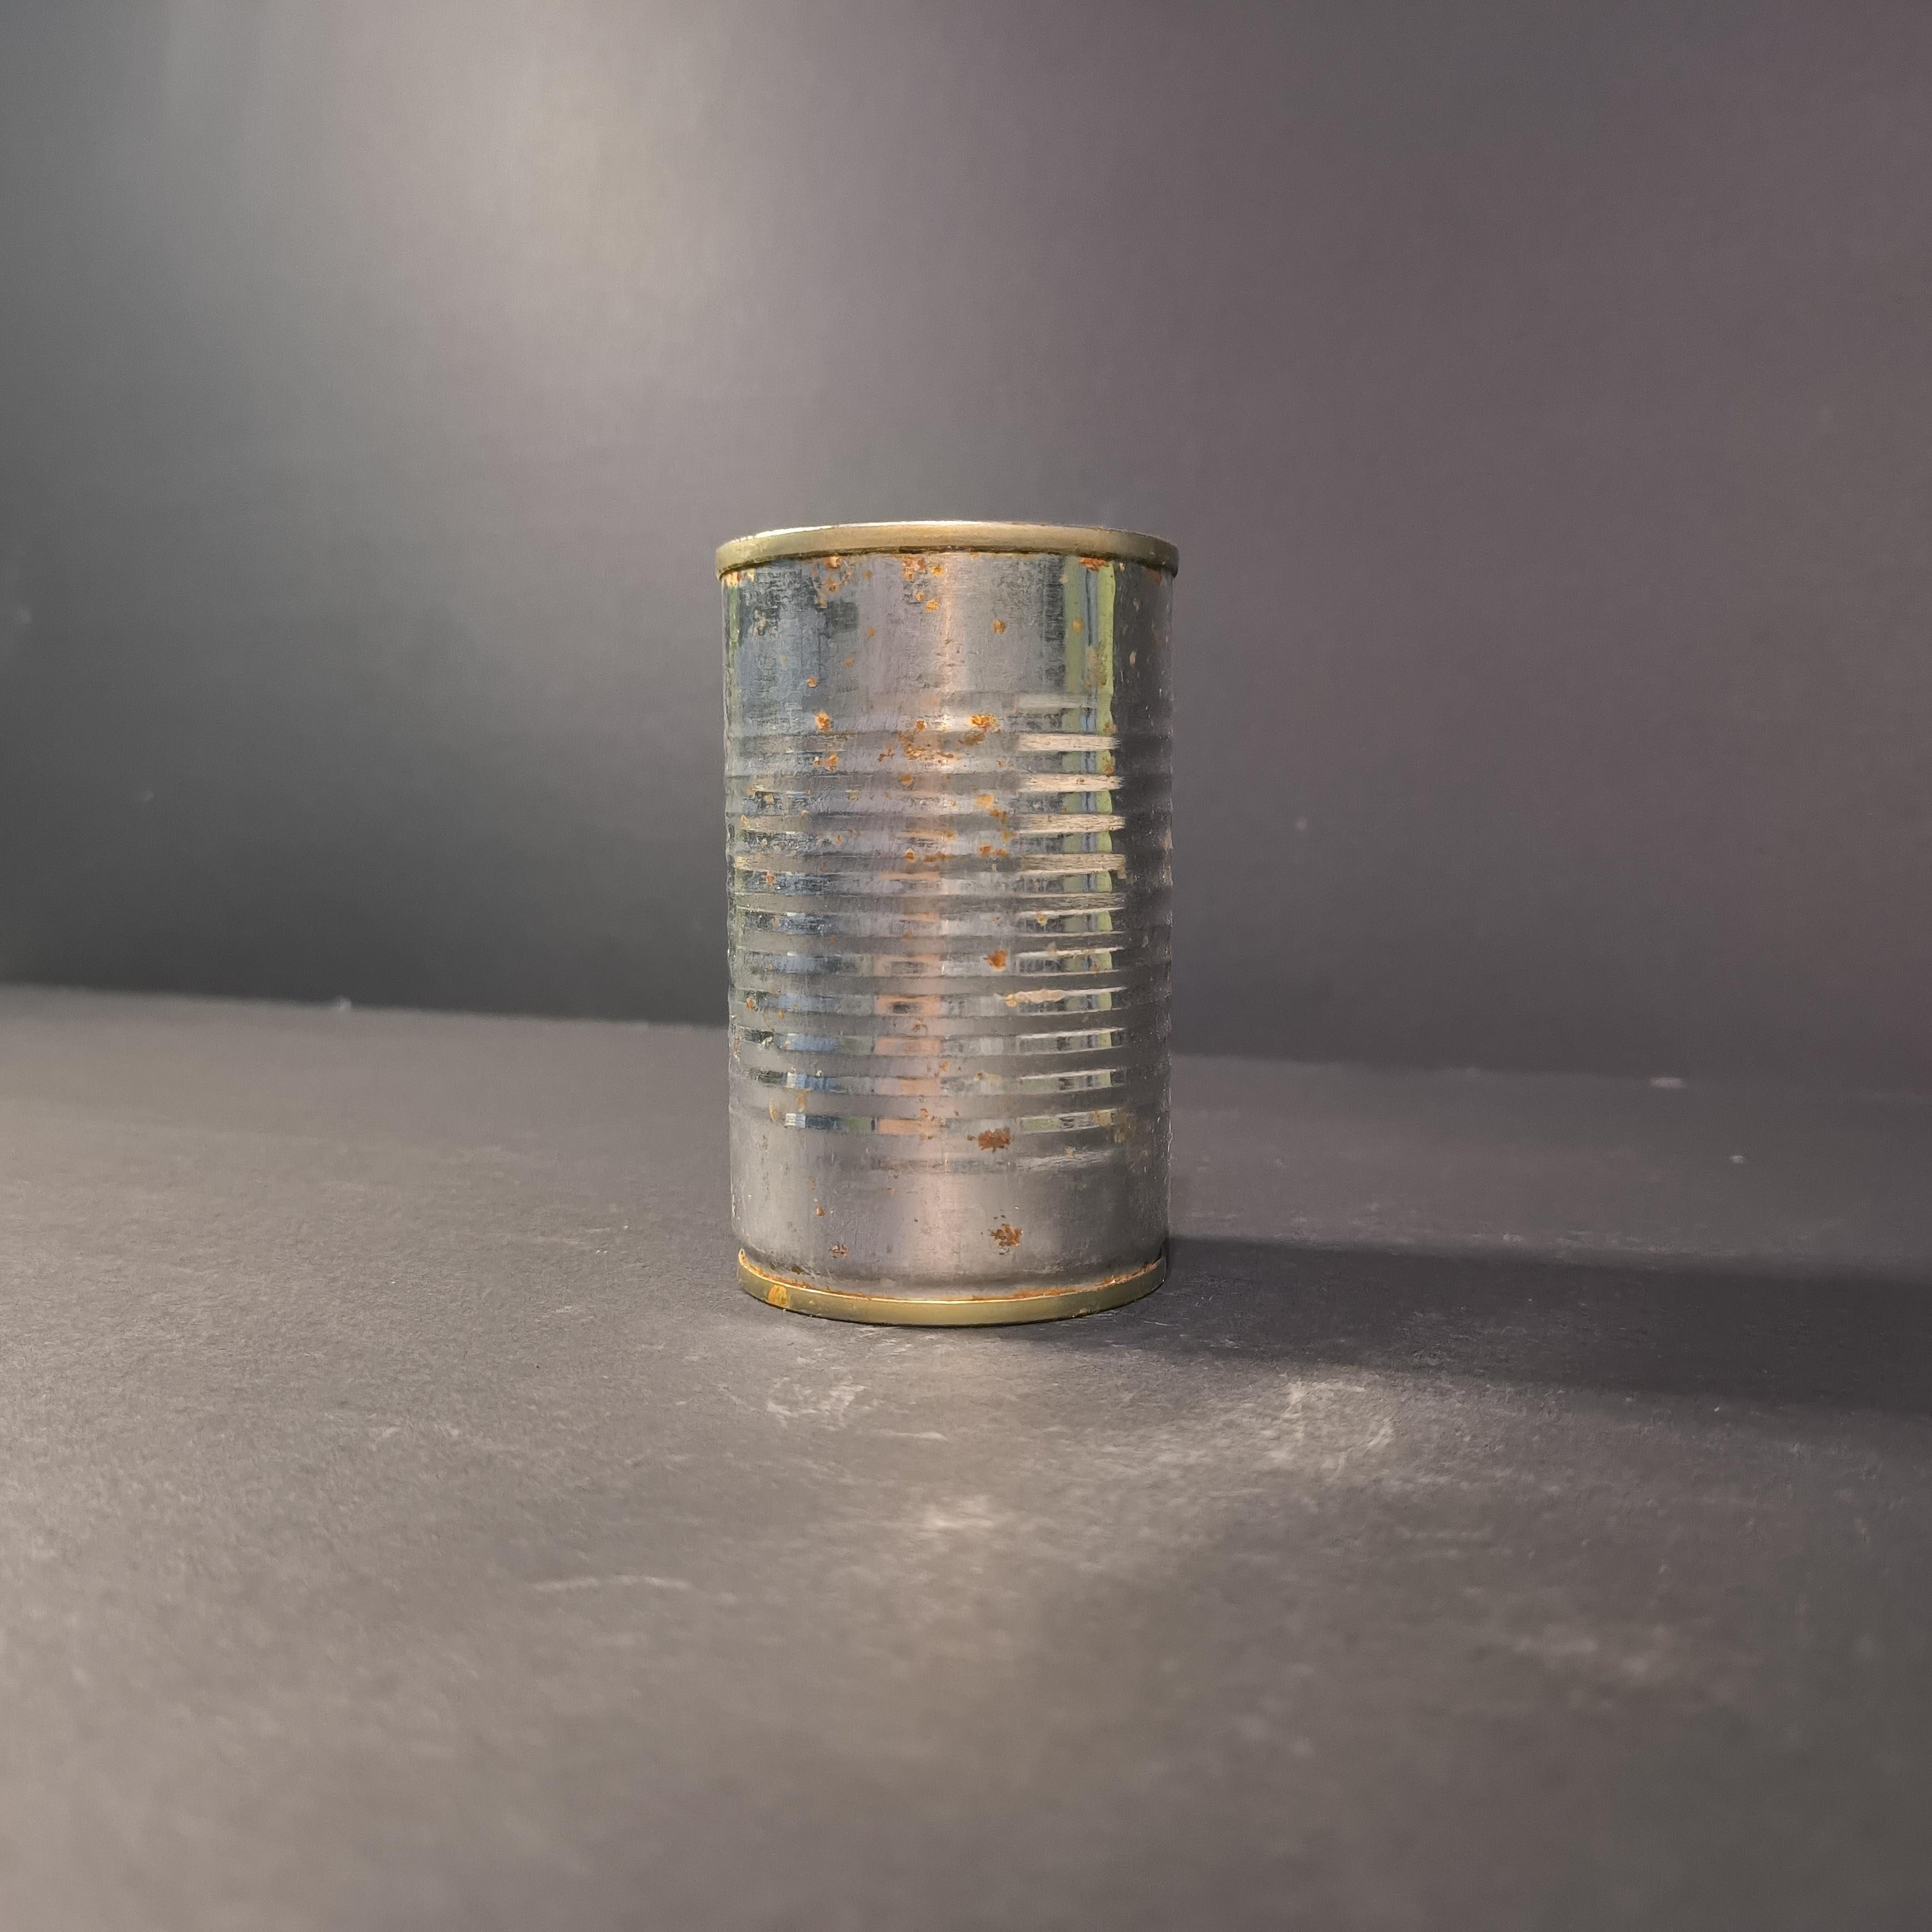Rusted: (701, 504, 1215, 1336)
